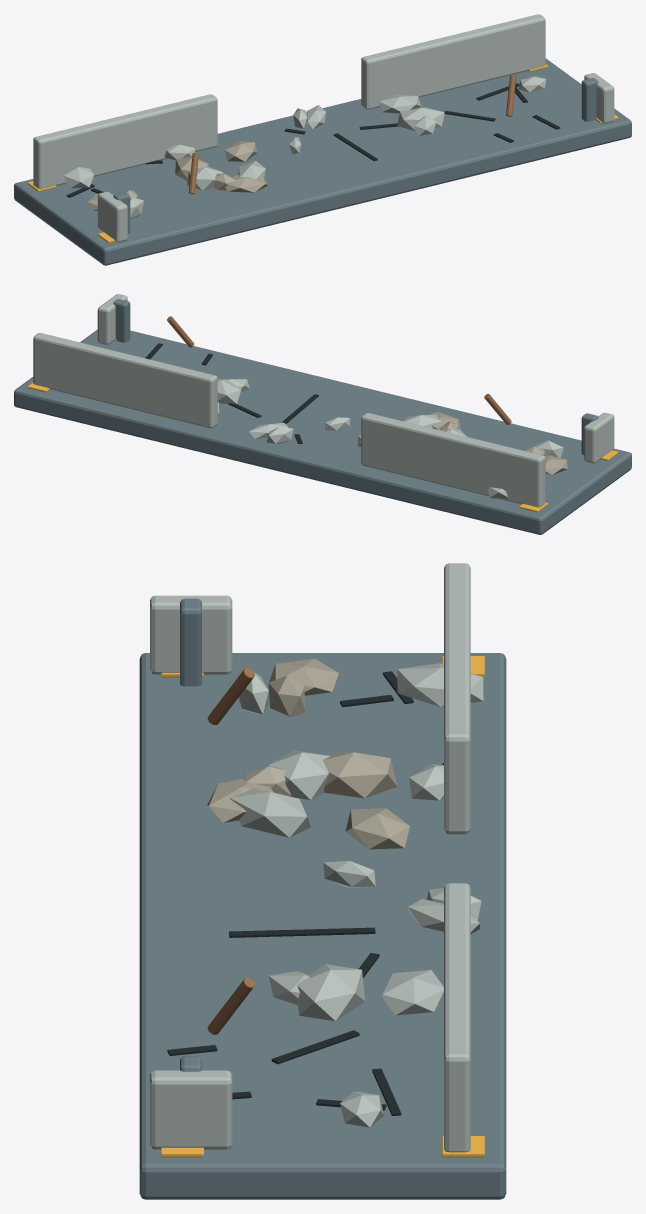
File: logistics_container_d3.glb
3 renders of one model, top to bottom at view 1: azimuth 30°, elevation 25°; view 2: azimuth 150°, elevation 25°; view 3: azimuth 270°, elevation 25°, orthographic. The views are drawn at different scales.
Parts seen in each view (by area): view 1: Foundation.031, End bulkhead.083, End bulkhead.082, Side pressure panel.136, Side pressure panel.137, Bounded fractured debris.229, External armor rib.137, Bounded fractured debris.227, Bounded fractured debris.228, Bounded fractured debris.231, Bounded fractured debris.223, Bounded fractured debris.232 (+3 smaller); view 2: Foundation.031, End bulkhead.083, End bulkhead.082, Side pressure panel.136, Side pressure panel.137, External armor rib.137, Bounded fractured debris.229, Bounded fractured debris.221, Bounded fractured debris.219; view 3: Foundation.031, End bulkhead.082, End bulkhead.083, Side pressure panel.137, Side pressure panel.136, Bounded fractured debris.229, Bounded fractured debris.225, Bounded fractured debris.233, Bounded fractured debris.227, Bounded fractured debris.228, Bounded fractured debris.223, Bounded fractured debris.232 (+13 smaller).
Boxes of the visible parts, left/top/right/bottom form: Foundation.031: left=14, top=58, right=631, bottom=265; End bulkhead.083: left=361, top=14, right=545, bottom=109; End bulkhead.082: left=33, top=94, right=217, bottom=188; Side pressure panel.136: left=97, top=191, right=127, bottom=242; Side pressure panel.137: left=584, top=73, right=614, bottom=123; Bounded fractured debris.229: left=397, top=107, right=444, bottom=130; External armor rib.137: left=581, top=78, right=598, bottom=121; Bounded fractured debris.227: left=379, top=94, right=421, bottom=113; Bounded fractured debris.228: left=225, top=141, right=257, bottom=161; Bounded fractured debris.231: left=225, top=175, right=268, bottom=192; Bounded fractured debris.223: left=63, top=167, right=94, bottom=188; Bounded fractured debris.232: left=187, top=166, right=223, bottom=190; Foundation.031: left=14, top=329, right=631, bottom=534; End bulkhead.083: left=33, top=333, right=217, bottom=428; End bulkhead.082: left=361, top=413, right=545, bottom=507; Side pressure panel.136: left=584, top=412, right=614, bottom=463; Side pressure panel.137: left=97, top=294, right=127, bottom=344; External armor rib.137: left=113, top=299, right=130, bottom=342; Bounded fractured debris.229: left=217, top=379, right=240, bottom=403; Bounded fractured debris.221: left=266, top=426, right=293, bottom=444; Bounded fractured debris.219: left=545, top=455, right=567, bottom=474; Foundation.031: left=139, top=653, right=506, bottom=1199; End bulkhead.082: left=444, top=563, right=470, bottom=834; End bulkhead.083: left=444, top=883, right=470, bottom=1152; Side pressure panel.137: left=150, top=1070, right=232, bottom=1149; Side pressure panel.136: left=150, top=595, right=232, bottom=674; Bounded fractured debris.229: left=297, top=964, right=364, bottom=1021; Bounded fractured debris.225: left=323, top=751, right=397, bottom=798; Bounded fractured debris.233: left=230, top=787, right=310, bottom=837; Bounded fractured debris.227: left=381, top=970, right=443, bottom=1015; Bounded fractured debris.228: left=345, top=808, right=409, bottom=849; Bounded fractured debris.223: left=397, top=663, right=483, bottom=707; Bounded fractured debris.232: left=268, top=750, right=330, bottom=799.
Bounding box in the file's own units: 10 × 1.22 × 3.
